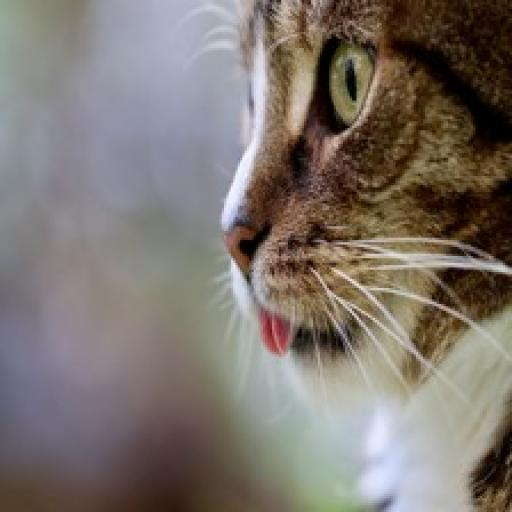cat: (199, 0, 512, 512)
